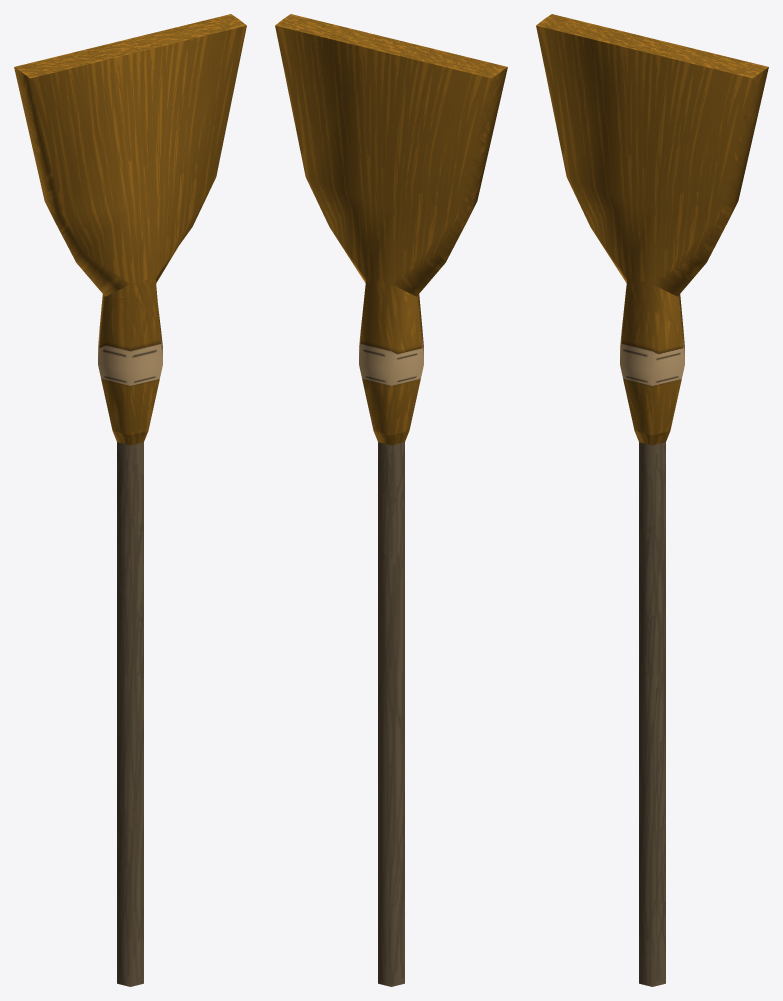
File: houki.fbx
3 views of the same model, side by side, from view 1: azimuth 30°, elevation 25°; view 2: azimuth 150°, elevation 25°; view 3: azimuth 330°, elevation 25° (orthographic).
Parts seen in each view (by area): view 1: broom; view 2: broom; view 3: broom.
Part boxes in pixels (x1,y1,x2,y2): broom: (14, 14, 246, 986); broom: (275, 14, 507, 986); broom: (536, 14, 768, 986).
Size of the model in its own units: 1.42 by 5.86 by 0.3709.
